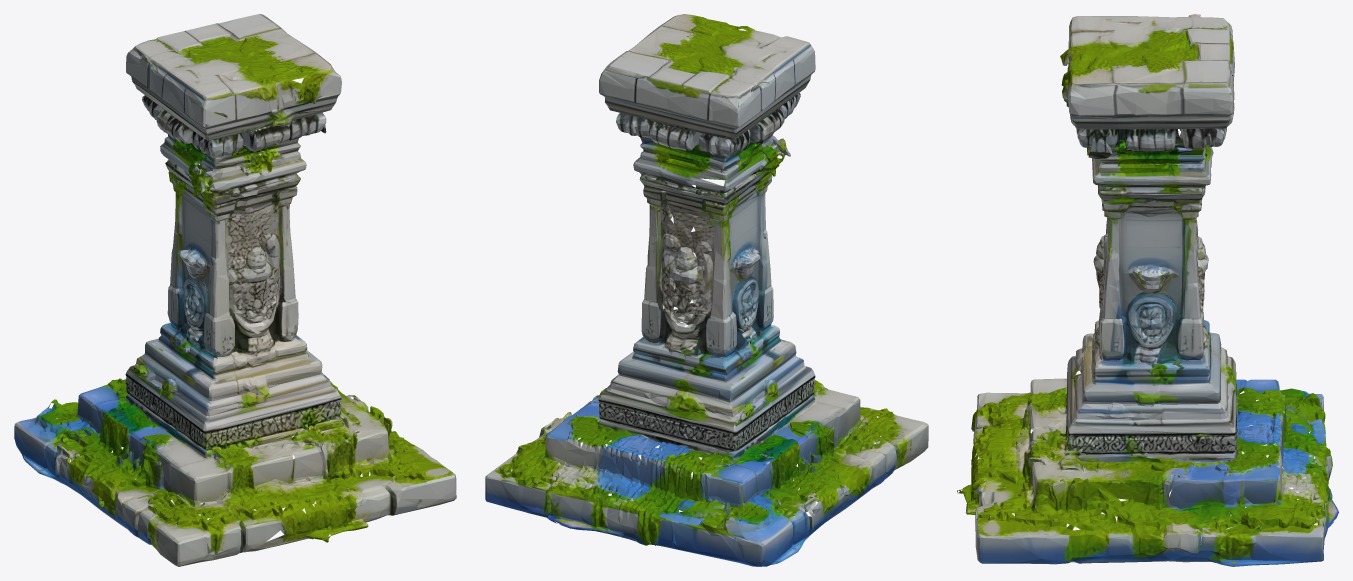
Rendered from ornate-yali-pillar-mid-section-optimized.glb.
3 views of the same model, side by side, from view 1: azimuth 30°, elevation 25°; view 2: azimuth 150°, elevation 25°; view 3: azimuth 270°, elevation 25° (orthographic). The views are drawn at different scales.
Parts seen in each view (by area): view 1: 7d1a52ff-1346-40c2-80ce-8ce04ca9cf28_texturing.obj; view 2: 7d1a52ff-1346-40c2-80ce-8ce04ca9cf28_texturing.obj; view 3: 7d1a52ff-1346-40c2-80ce-8ce04ca9cf28_texturing.obj.
Boxes of the visible parts, <box> form: 7d1a52ff-1346-40c2-80ce-8ce04ca9cf28_texturing.obj: <box>14,14,456,566</box>; 7d1a52ff-1346-40c2-80ce-8ce04ca9cf28_texturing.obj: <box>485,14,928,566</box>; 7d1a52ff-1346-40c2-80ce-8ce04ca9cf28_texturing.obj: <box>957,14,1338,566</box>.
Size of the model in its own units: 2.51 by 3.5 by 2.72.
1 material, 1 textured.
